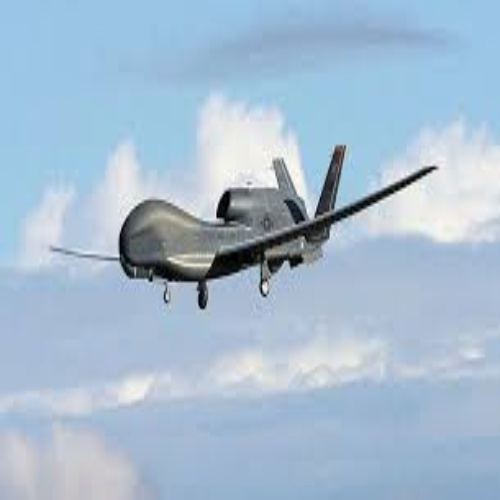uav: (54, 141, 438, 310)
